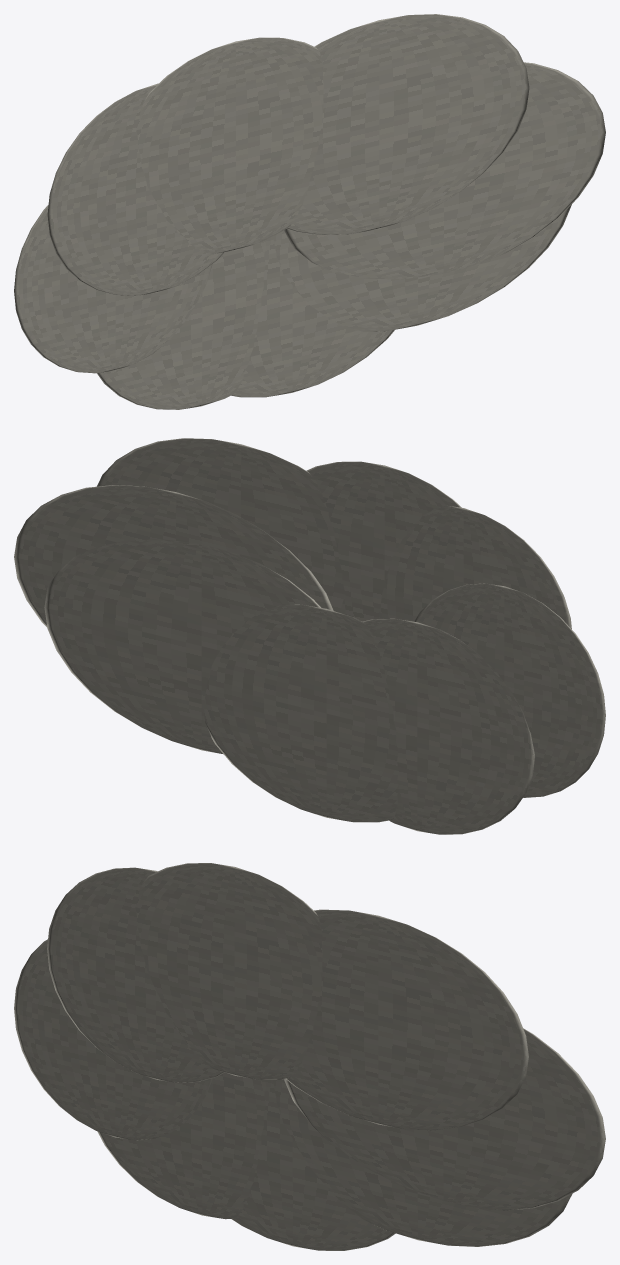
Rendered from old-paint.glb.
3 renders of one model, top to bottom at view 1: azimuth 30°, elevation 25°; view 2: azimuth 150°, elevation 25°; view 3: azimuth 330°, elevation 25°, orthographic.
Visible parts, largest first — view 1: fragment (×8); view 2: fragment (×8); view 3: fragment (×8).
Part boxes in pixels (x1,y1,x2,y2): fragment (×8): (14, 14, 605, 409); fragment (×8): (14, 438, 605, 834); fragment (×8): (14, 863, 605, 1250).
Size of the model in its own units: 0.5993 by 0.3539 by 0.00206.
Materials: 1 (1 with a texture image).
